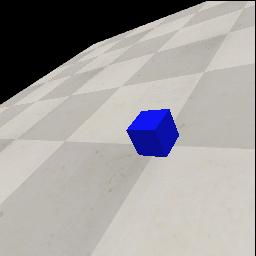box: (126, 109, 179, 157)
